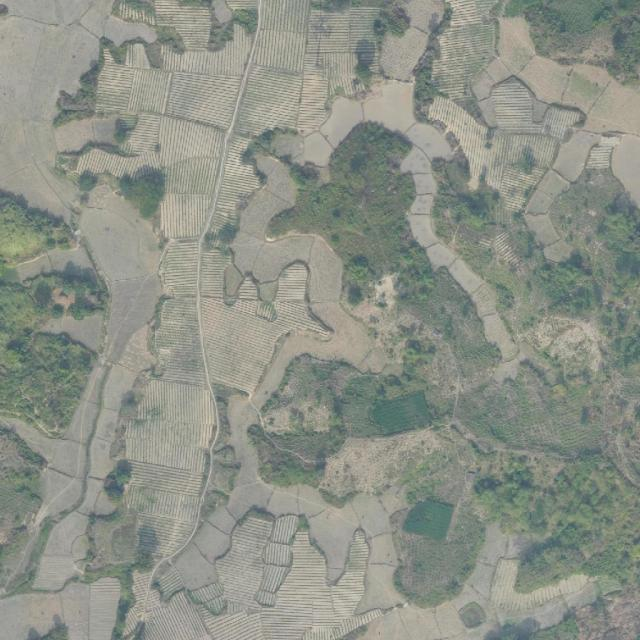agricultural_land: (162, 391, 454, 640), (76, 0, 380, 238), (13, 193, 176, 601), (185, 140, 388, 410), (222, 154, 374, 310), (111, 376, 219, 563), (200, 299, 329, 395), (30, 505, 100, 601), (302, 498, 377, 584), (71, 137, 160, 193), (153, 298, 206, 387), (63, 363, 116, 447), (82, 501, 139, 571), (53, 58, 100, 130), (289, 320, 373, 360), (169, 538, 222, 595), (52, 114, 122, 154), (0, 594, 62, 639), (38, 468, 85, 526), (221, 475, 278, 522), (119, 171, 170, 222), (36, 435, 91, 480), (162, 240, 200, 297), (89, 577, 122, 640), (188, 521, 234, 566), (201, 248, 232, 298), (275, 260, 308, 304), (432, 598, 467, 639), (206, 504, 241, 539), (215, 262, 247, 300), (77, 475, 105, 517), (266, 486, 299, 517), (224, 493, 252, 522), (56, 152, 82, 173), (238, 276, 258, 300), (255, 301, 278, 321)
greenland: (251, 122, 640, 640), (0, 191, 108, 436), (0, 427, 45, 573)
